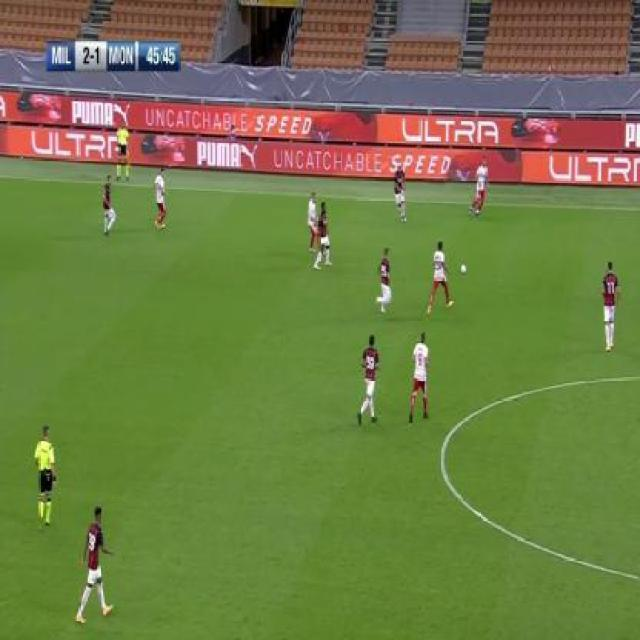ball: (459, 260, 468, 276)
player: (75, 504, 117, 630), (33, 421, 58, 534), (356, 333, 381, 427), (426, 239, 454, 318), (600, 258, 622, 354), (408, 331, 430, 425), (305, 193, 330, 267), (375, 247, 394, 318), (467, 159, 489, 219), (315, 202, 334, 271), (115, 112, 132, 183), (152, 166, 169, 234), (102, 173, 119, 239), (393, 160, 409, 226), (306, 190, 319, 253)
